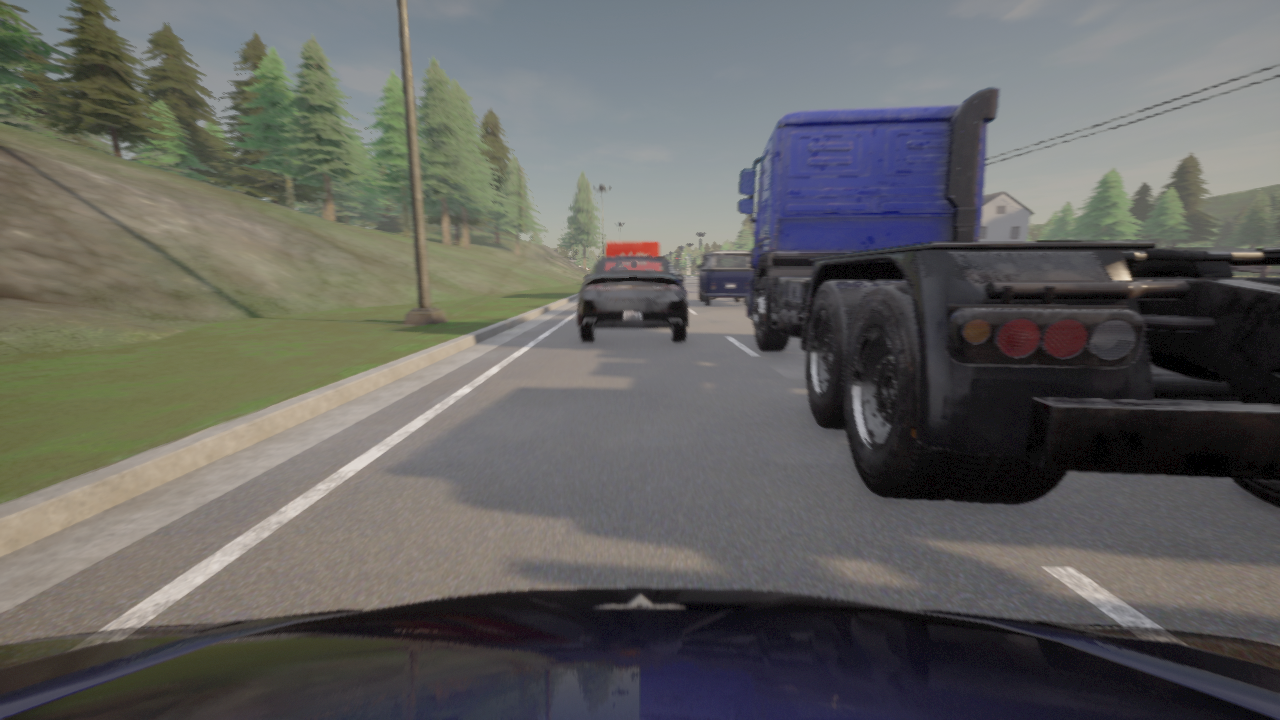cyclist: (739, 88, 1279, 506), (0, 588, 1279, 719), (578, 255, 688, 341), (698, 251, 753, 304), (605, 240, 660, 257), (675, 271, 684, 284)
